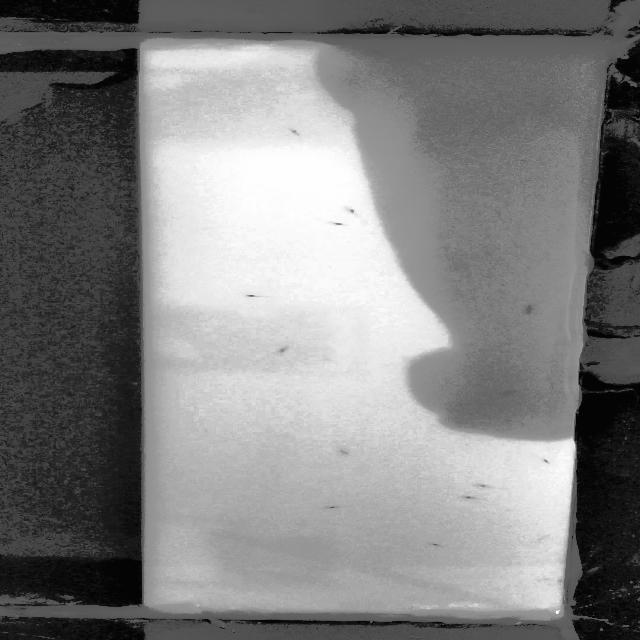shrimp: (344, 44, 406, 62), (304, 497, 352, 516), (526, 448, 560, 472), (511, 296, 547, 318), (414, 538, 466, 552), (233, 290, 273, 305), (333, 203, 368, 220), (464, 480, 506, 493), (324, 216, 353, 232), (268, 345, 307, 356), (454, 492, 484, 504)
